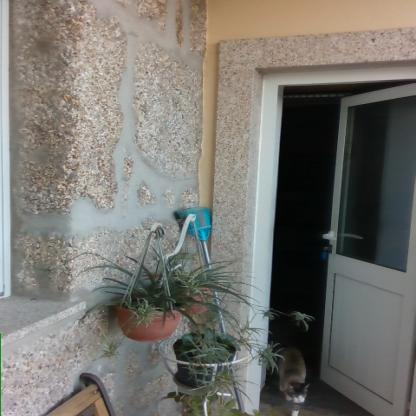semi: (232, 65, 416, 416)
